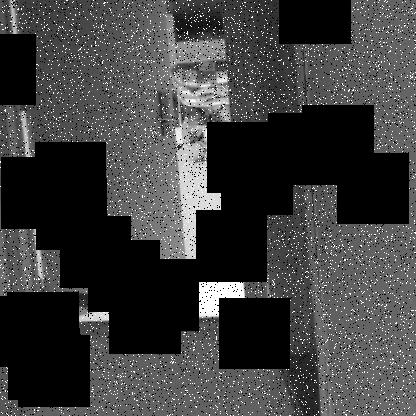Porte: (0, 0, 270, 348)
